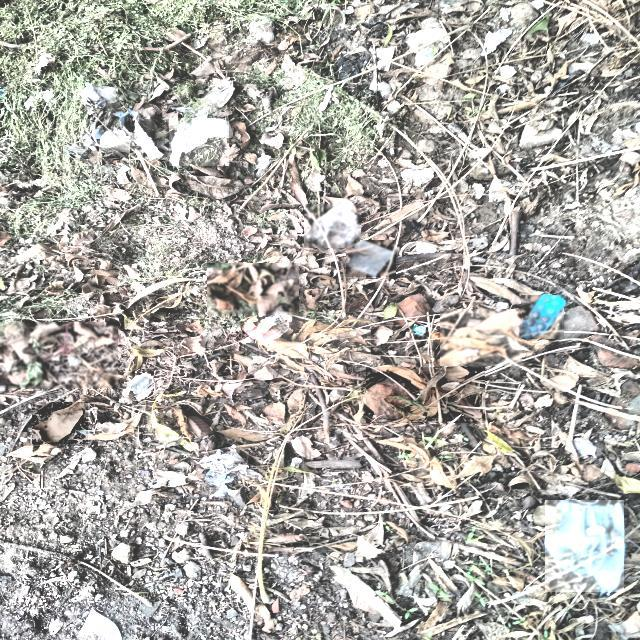anorganik: (545, 500, 624, 592), (170, 118, 228, 166), (305, 204, 360, 248), (521, 296, 564, 338), (346, 241, 396, 276)
organik: (0, 323, 118, 388), (367, 368, 484, 423), (245, 314, 371, 363), (440, 309, 522, 366), (207, 264, 299, 314), (32, 402, 87, 444)
